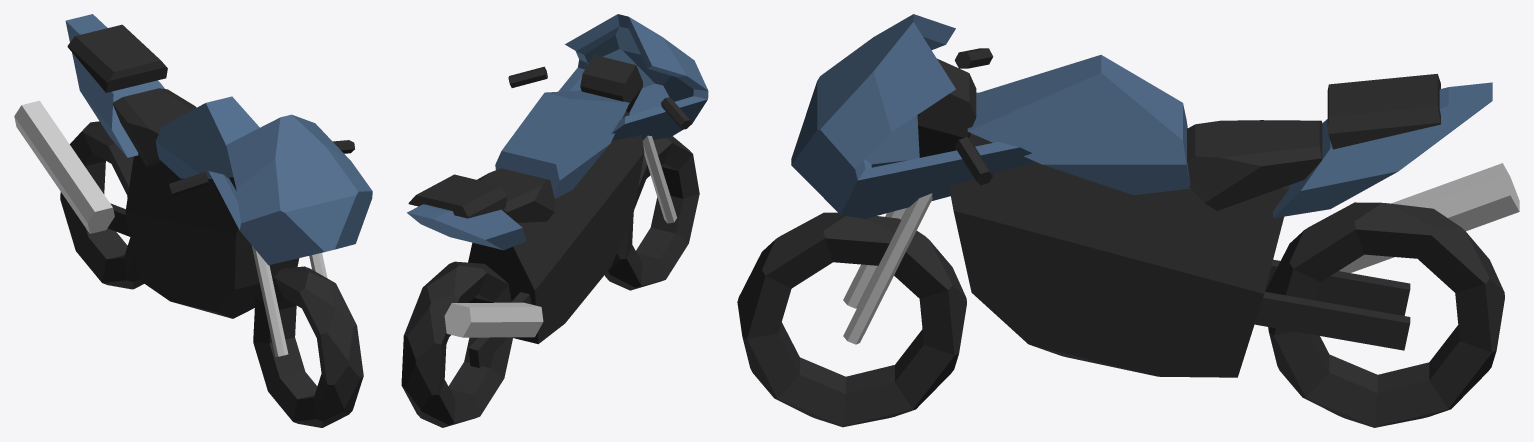
The model's file is Motorcycle.gltf.
The picture shows the model from 3 angles, left to right: view 1: azimuth 30°, elevation 25°; view 2: azimuth 150°, elevation 25°; view 3: azimuth 270°, elevation 25°; orthographic projection. The views are drawn at different scales.
Visible parts, largest first — view 1: node-0; view 2: node-0; view 3: node-0.
Boxes of the visible parts, x1,y1,x2,y2 form: node-0: (14,14,372,427); node-0: (401,14,708,427); node-0: (737,14,1519,427).
Bounding box in the file's own units: 3.57 × 5.29 × 9.36.
